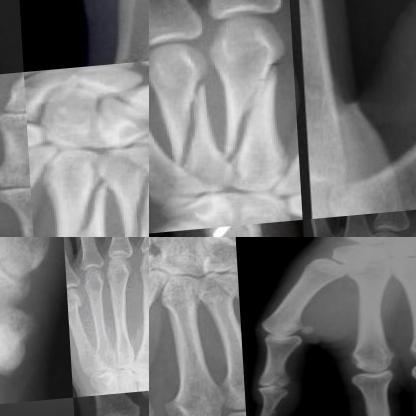fracture: (206, 61, 283, 173), (149, 67, 213, 179), (41, 174, 119, 236), (111, 168, 148, 236), (180, 225, 271, 236), (66, 290, 85, 324)
